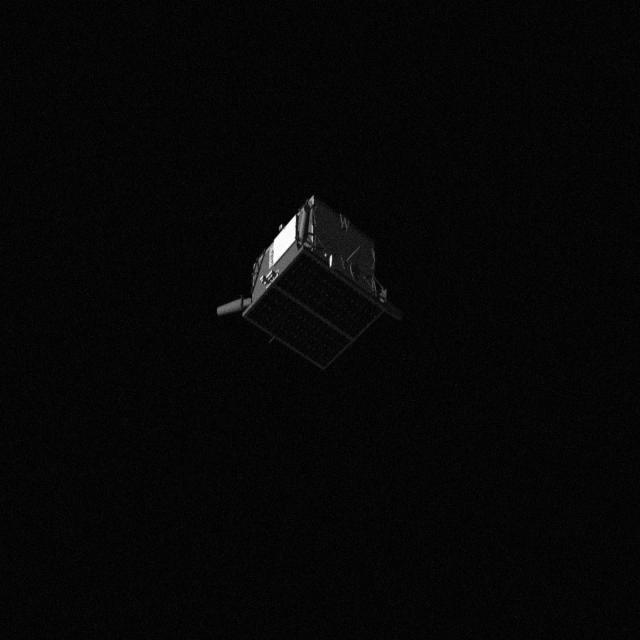satellite: (216, 192, 422, 388)
